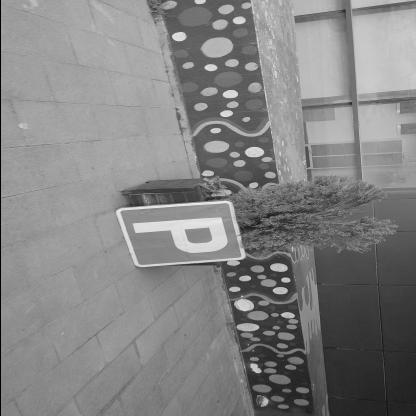Parking-Sign: (113, 201, 248, 269)
